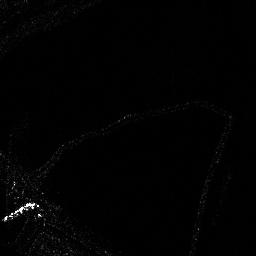ship: (3, 201, 36, 223)
